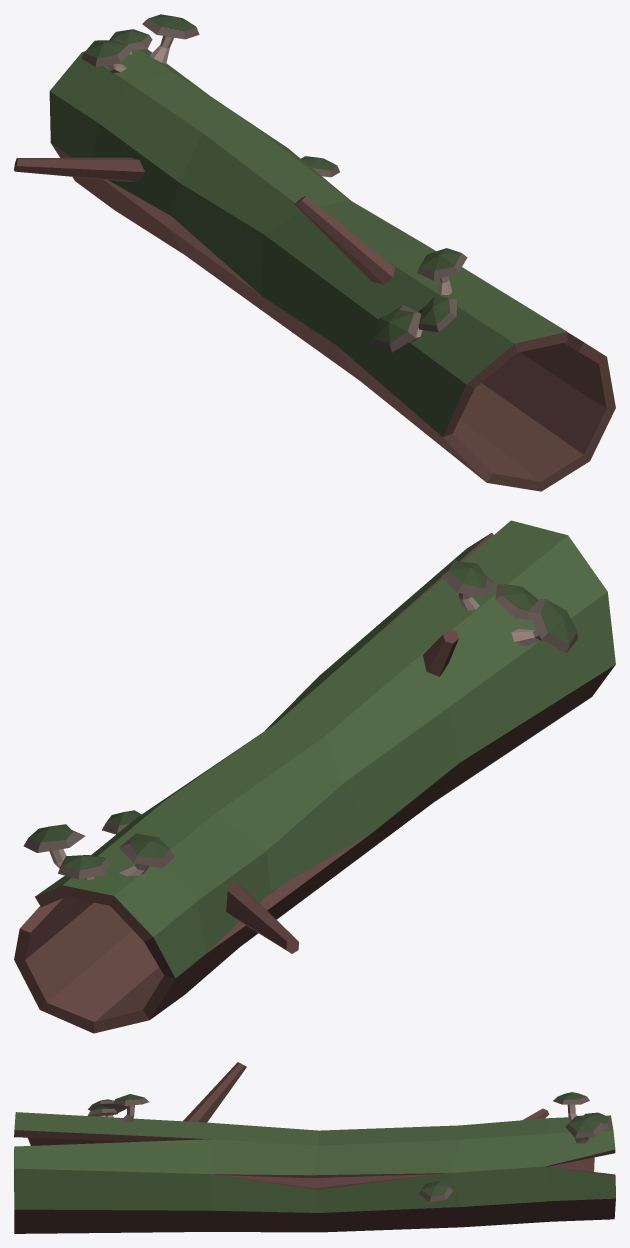
File: WoodLog_Moss-optimized.glb
3 renders of one model, top to bottom at view 1: azimuth 30°, elevation 25°; view 2: azimuth 150°, elevation 25°; view 3: azimuth 270°, elevation 25°, orthographic. The views are drawn at different scales.
Visible parts, largest first — view 1: WoodLog_Moss; view 2: WoodLog_Moss; view 3: WoodLog_Moss.
Part boxes in pixels (box(x1,y1,x2,y2)): WoodLog_Moss: box(14, 14, 615, 491); WoodLog_Moss: box(14, 520, 615, 1033); WoodLog_Moss: box(14, 1062, 615, 1233).
Bounding box in the file's own units: 0.8967 × 0.6883 × 2.67.
